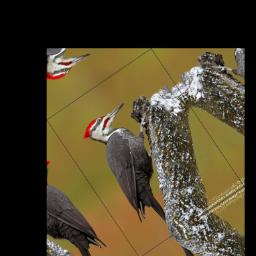Woodpecker: (78, 94, 204, 238)
